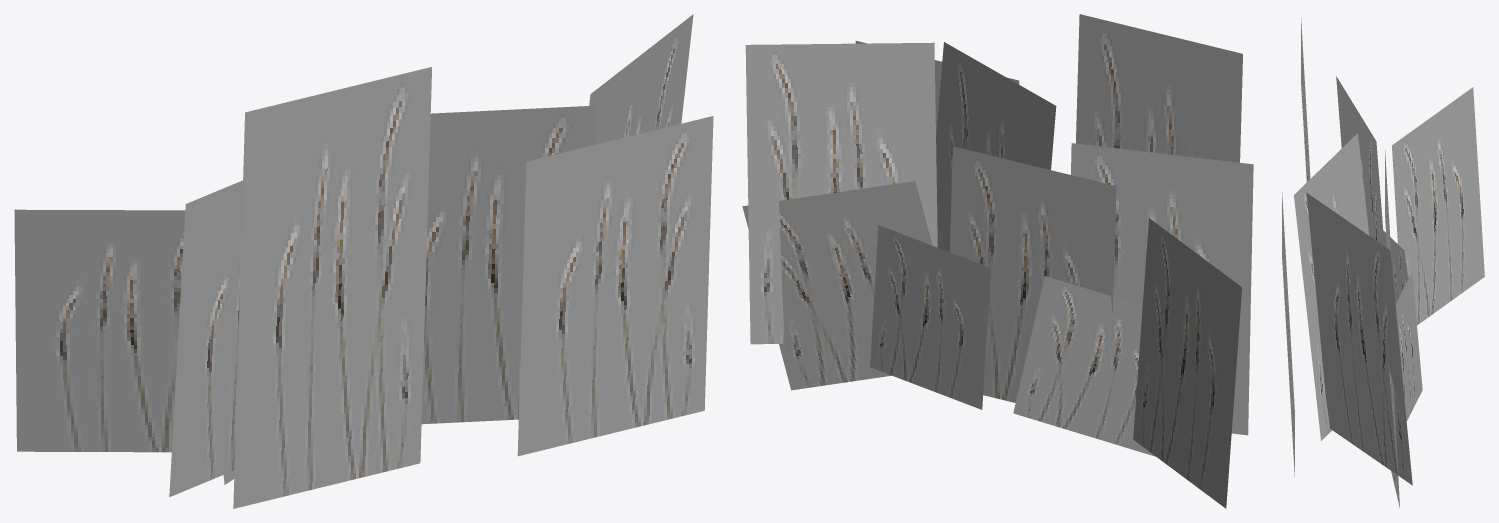
File: plants_k005.FBX
The picture shows the model from 3 angles, left to right: view 1: azimuth 30°, elevation 25°; view 2: azimuth 150°, elevation 25°; view 3: azimuth 270°, elevation 25°; orthographic projection. The views are drawn at different scales.
Visible parts, largest first — view 1: plants_k005; view 2: plants_k005; view 3: plants_k005.
Part boxes in pixels (<box>): plants_k005: <box>14,14,713,508</box>; plants_k005: <box>742,14,1253,508</box>; plants_k005: <box>1282,18,1484,507</box>.
Bounding box in the file's own units: 3.64 × 2.49 × 1.38.
1 material, 1 textured.
